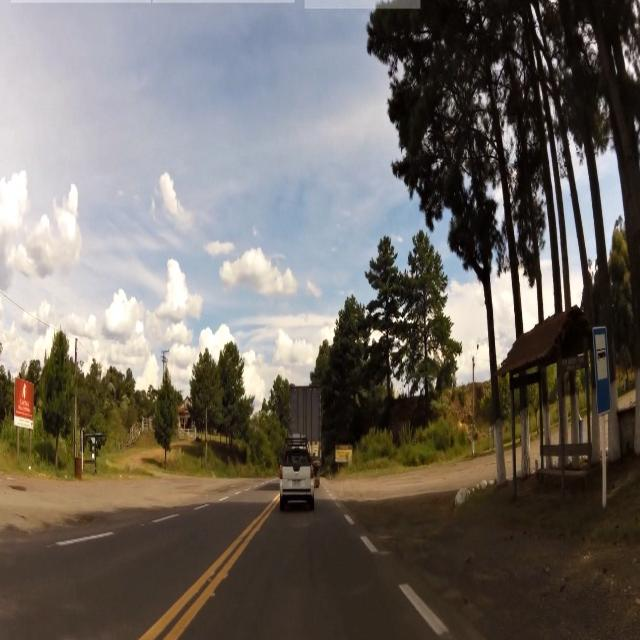S-14: (590, 328, 612, 416)
